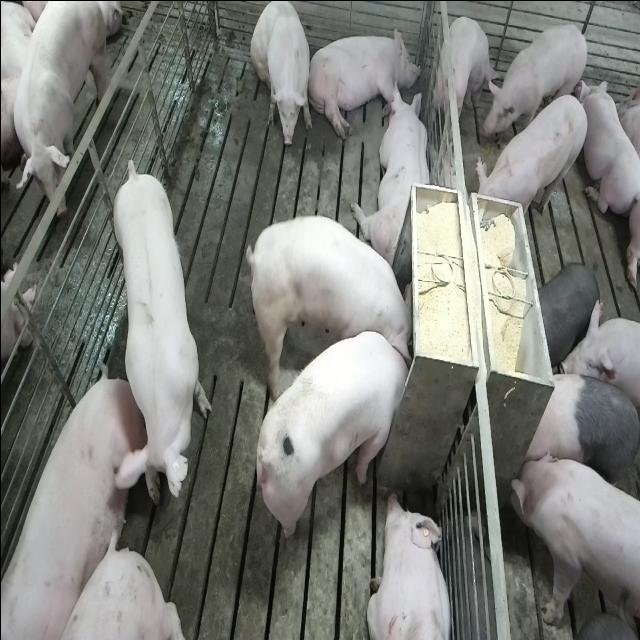Feeding: (258, 328, 418, 540), (250, 212, 420, 366)
Lateral_lying: (306, 22, 419, 140)
Sitting: (250, 0, 312, 148)
Standing: (108, 152, 211, 512), (507, 447, 639, 640), (2, 0, 115, 223), (474, 90, 588, 227), (517, 372, 639, 496), (482, 20, 588, 145), (534, 260, 600, 366), (436, 12, 495, 130)
Sternal_lying: (353, 82, 432, 270), (368, 490, 455, 640), (580, 69, 640, 215)
